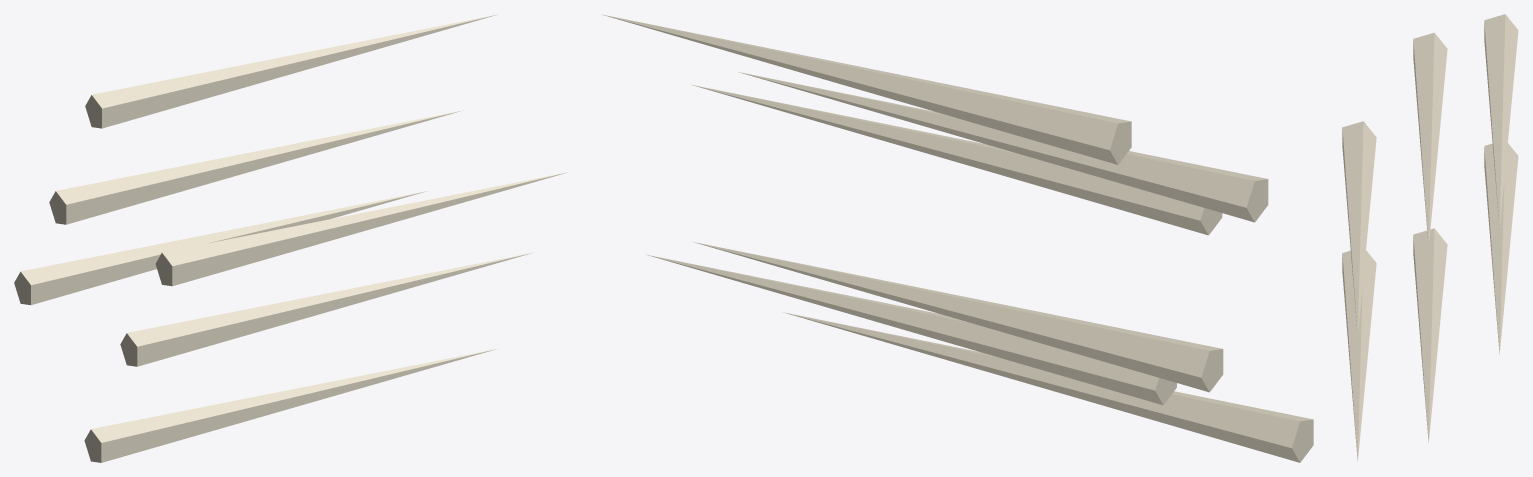
Rendered from item_041_bone_needle_l.glb.
3 views of the same model, side by side, from view 1: azimuth 30°, elevation 25°; view 2: azimuth 150°, elevation 25°; view 3: azimuth 270°, elevation 25° (orthographic). The views are drawn at different scales.
Parts seen in each view (by area): view 1: item_041_bone_needle_l; view 2: item_041_bone_needle_l; view 3: item_041_bone_needle_l.
Boxes of the visible parts, x1,y1,x2,y2 form: item_041_bone_needle_l: [14, 14, 567, 462]; item_041_bone_needle_l: [601, 14, 1313, 462]; item_041_bone_needle_l: [1342, 14, 1518, 461].
Bounding box in the file's own units: 0.47 × 0.2804 × 0.1489.
